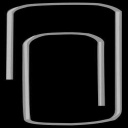Metal: (1, 1, 128, 128)
